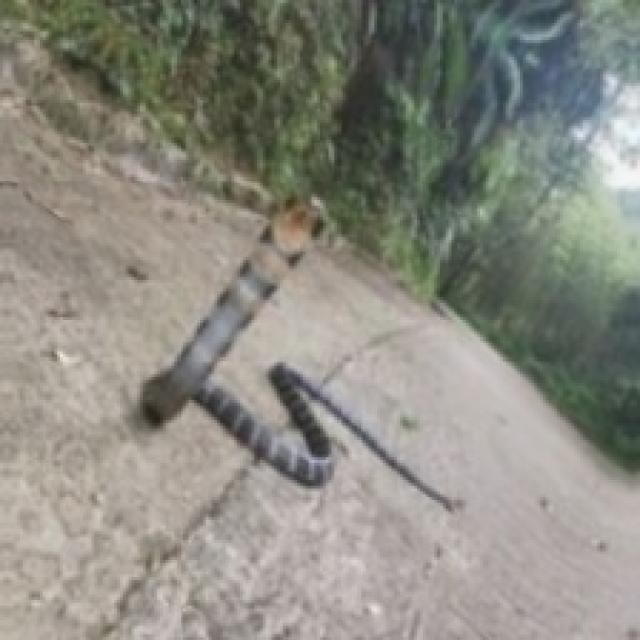king cobra: (140, 203, 454, 509)
